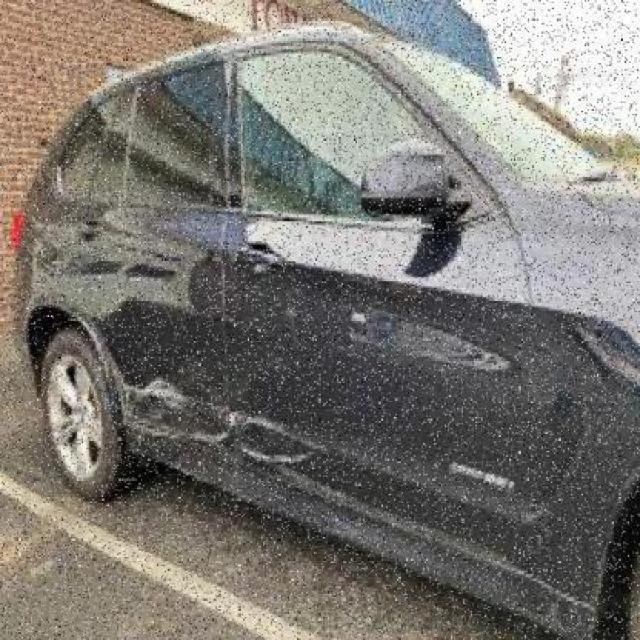RunningBoard-Dent: (299, 494, 470, 587)
doorouter-dent: (228, 219, 525, 450), (68, 211, 231, 445)
